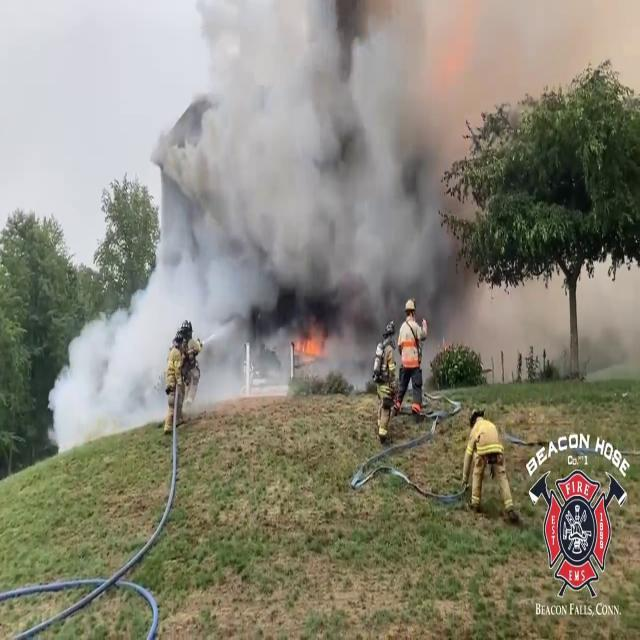Fire: (292, 313, 331, 363)
Smoke: (170, 0, 485, 348), (48, 256, 214, 454)
